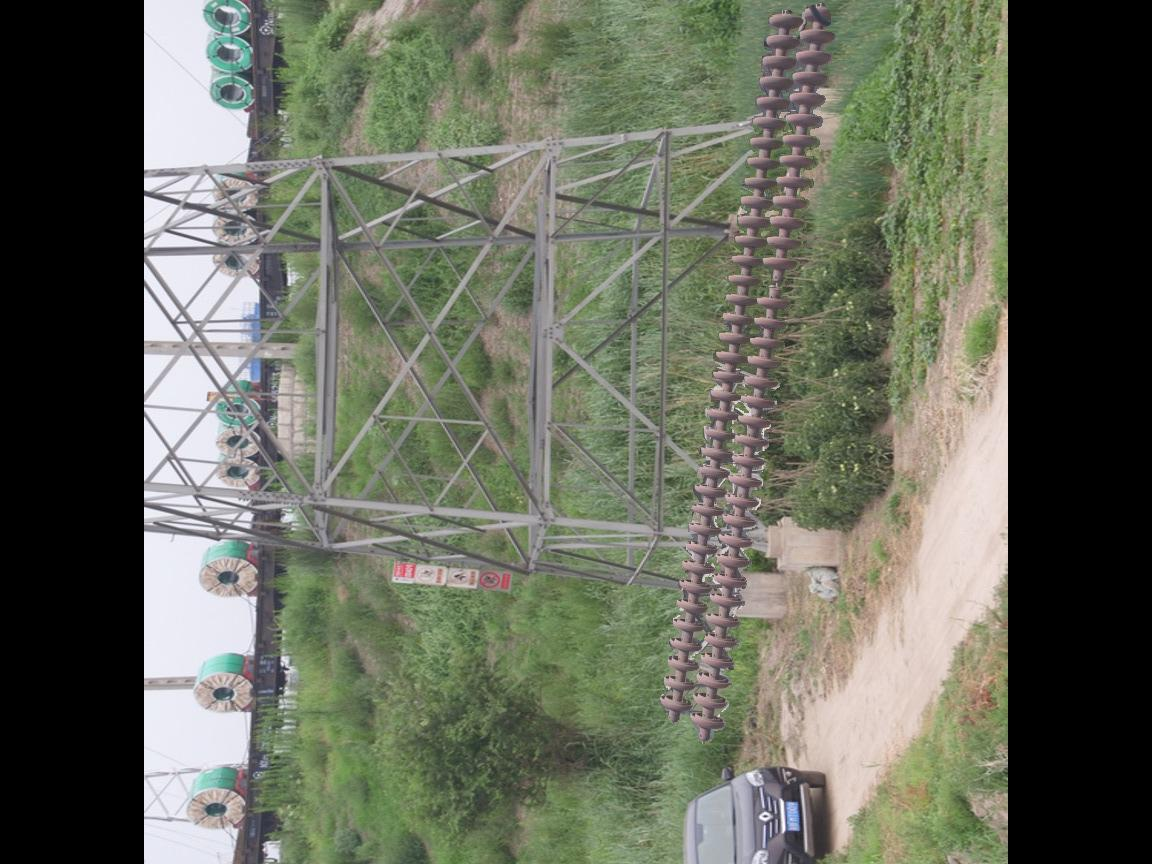insulator: (654, 1, 841, 737)
insulator_stringdrop: (754, 252, 800, 311)
